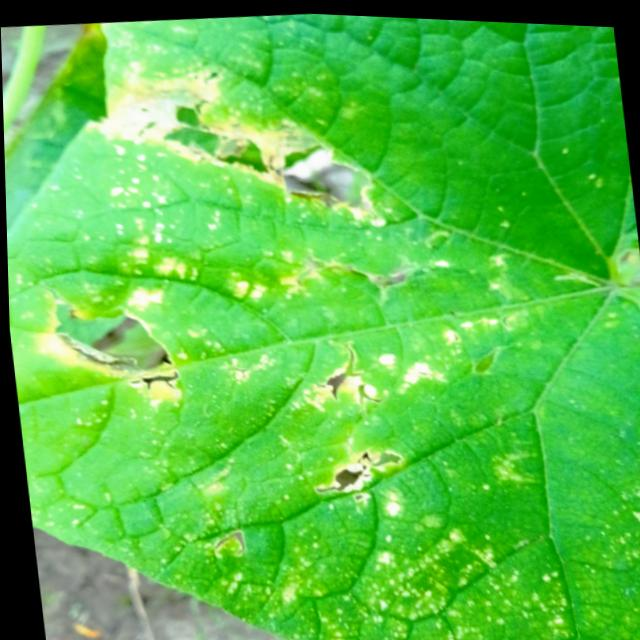Anthracnose: (158, 91, 389, 229), (46, 287, 185, 392), (310, 437, 410, 519), (314, 333, 384, 413)
